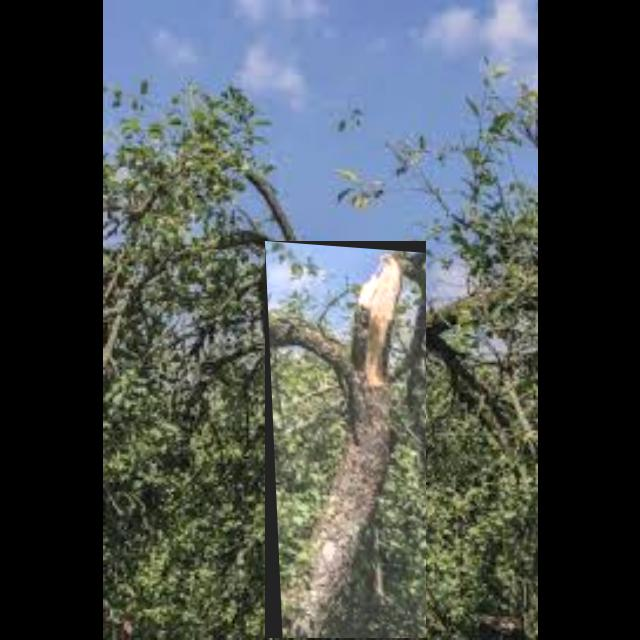Fallen Tree: (265, 241, 427, 639)
